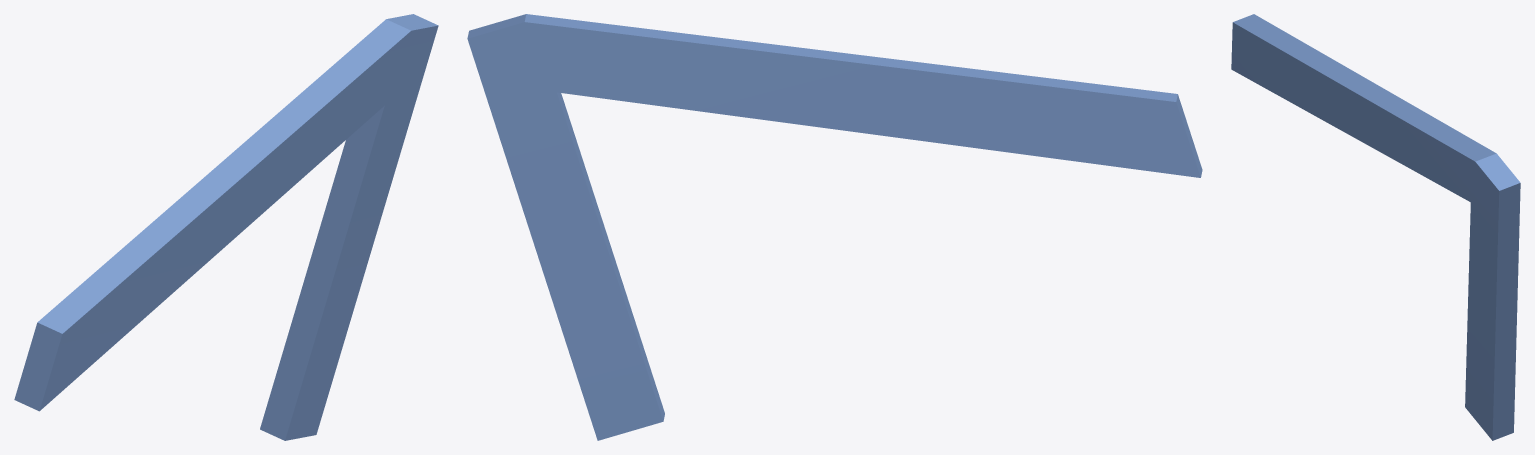
Rendered from New_Number_7.gltf.
3 renders of one model, left to right at view 1: azimuth 30°, elevation 25°; view 2: azimuth 150°, elevation 25°; view 3: azimuth 270°, elevation 25°, orthographic. The views are drawn at different scales.
Visible parts, largest first — view 1: Part 556; view 2: Part 556; view 3: Part 556.
Boxes of the visible parts, x1=… form: Part 556: x1=14, y1=14, x2=438, y2=440; Part 556: x1=467, y1=14, x2=1202, y2=440; Part 556: x1=1231, y1=14, x2=1520, y2=440.
Bounding box in the file's own units: 0.00557 × 0.00364 × 0.00303.
